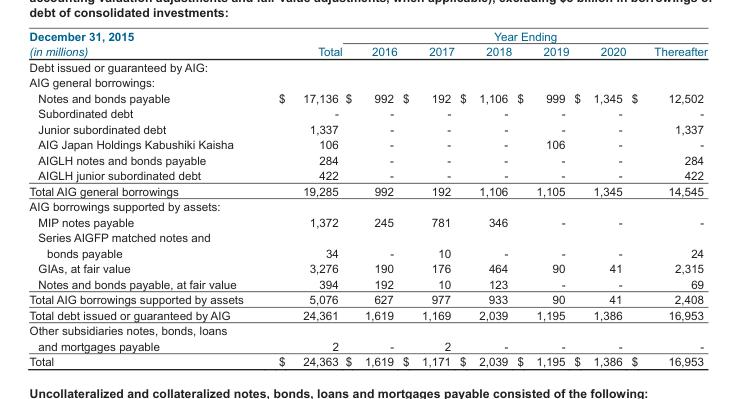table: (28, 29, 706, 367)
table column: (28, 29, 260, 367), (260, 29, 343, 367), (628, 29, 706, 367), (570, 29, 628, 367), (399, 29, 456, 367), (456, 29, 513, 367), (513, 29, 570, 367), (343, 29, 399, 367)
table column header: (28, 29, 706, 59)
table projected row header: (28, 74, 706, 90), (28, 198, 706, 214), (28, 229, 706, 245), (28, 322, 706, 338), (28, 59, 706, 74)
table row: (28, 43, 706, 59), (28, 74, 706, 90), (28, 105, 706, 121), (28, 136, 706, 152), (28, 167, 706, 183), (28, 198, 706, 214), (28, 229, 706, 245), (28, 260, 706, 276), (28, 291, 706, 307), (28, 322, 706, 338), (28, 59, 706, 74), (28, 90, 706, 105), (28, 121, 706, 136), (28, 152, 706, 167), (28, 183, 706, 198), (28, 214, 706, 229), (28, 245, 706, 260), (28, 276, 706, 291), (28, 307, 706, 322), (28, 338, 706, 353), (28, 29, 706, 43), (28, 353, 706, 367)
table spanning cell: (28, 29, 260, 59), (343, 29, 706, 43), (260, 29, 343, 59)
